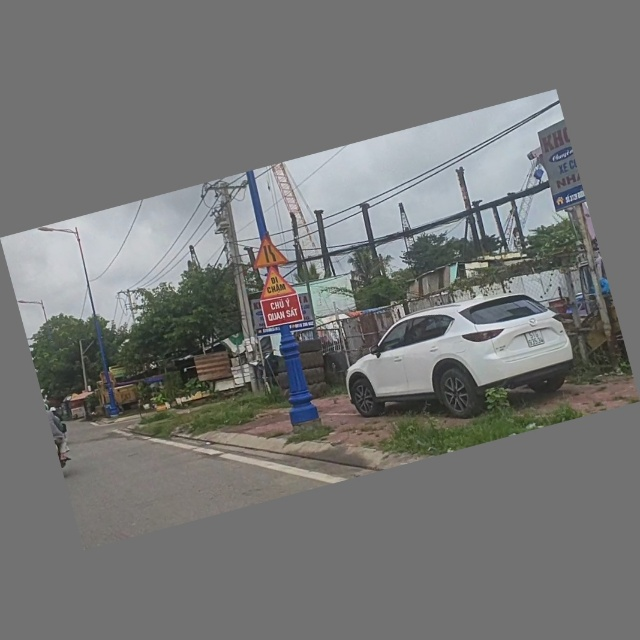W.203c: (246, 233, 290, 272)
W.245a: (254, 263, 298, 303)
